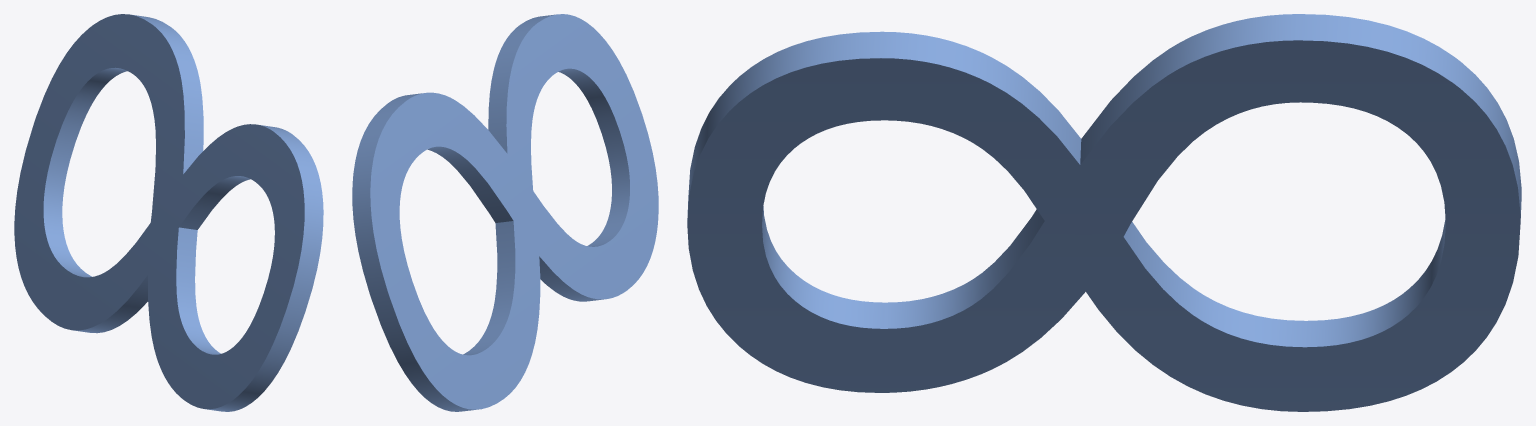
File: New_Number_8.gltf
3 views of the same model, side by side, from view 1: azimuth 30°, elevation 25°; view 2: azimuth 150°, elevation 25°; view 3: azimuth 270°, elevation 25° (orthographic). The views are drawn at different scales.
Visible parts, largest first — view 1: Part 314; view 2: Part 314; view 3: Part 314.
Part boxes in pixels (left/top/right/bottom): Part 314: left=14, top=14, right=323, bottom=411; Part 314: left=352, top=14, right=658, bottom=411; Part 314: left=687, top=14, right=1521, bottom=411.
Size of the model in its own units: 0.00152 by 0.00347 by 0.00566.
